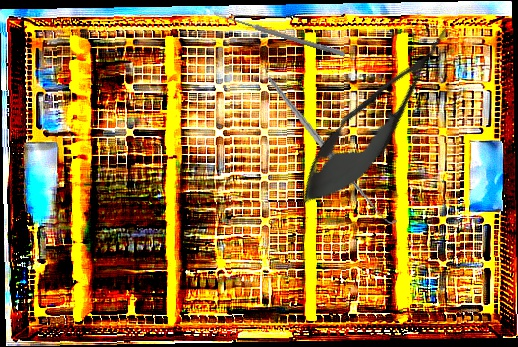Hook Surgical: (267, 59, 398, 241)
Micro Scissor: (283, 11, 471, 223)
Surgical Spoon: (213, 11, 346, 57)
